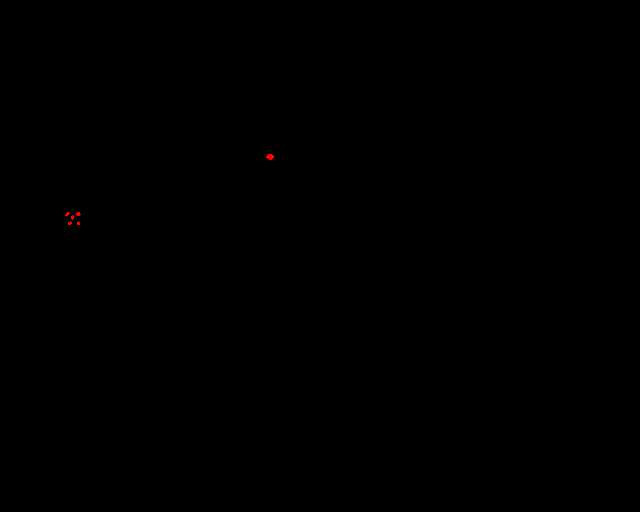Target: (266, 154, 274, 160), (65, 212, 70, 216), (76, 212, 81, 216), (68, 221, 72, 225), (71, 215, 74, 220), (77, 221, 80, 225)
